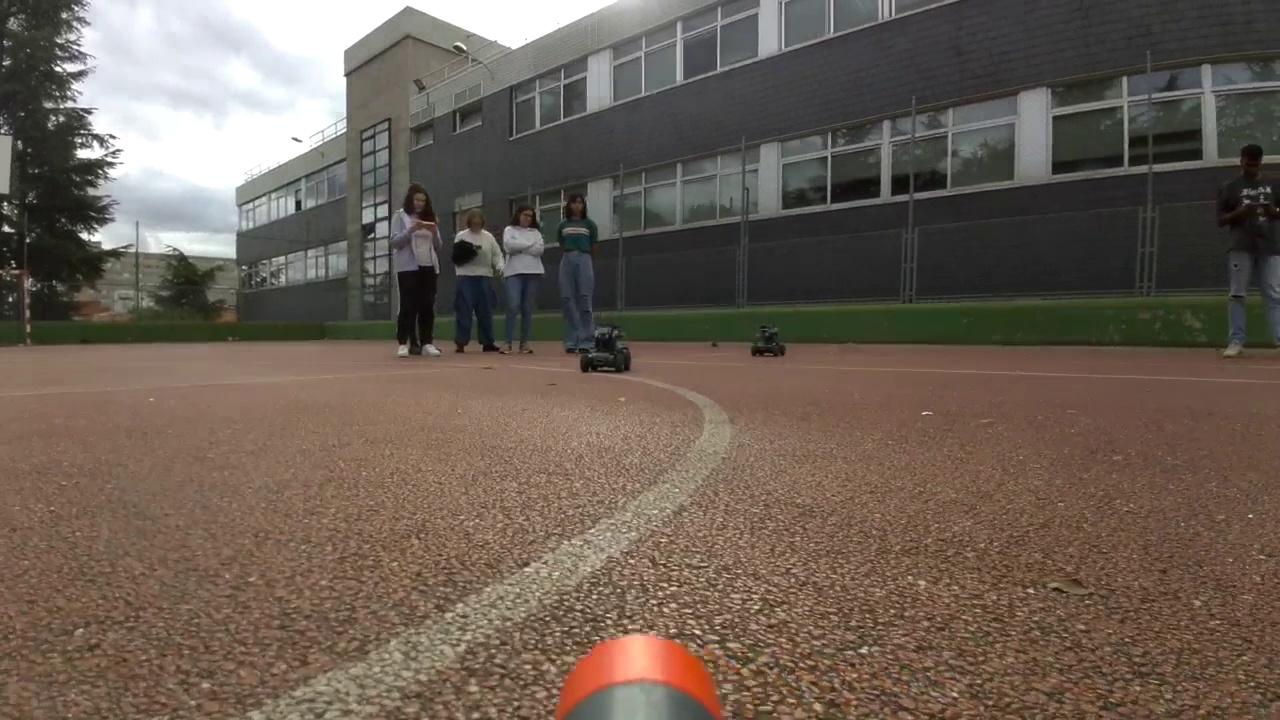robot: (580, 323, 632, 374), (752, 326, 785, 357)
